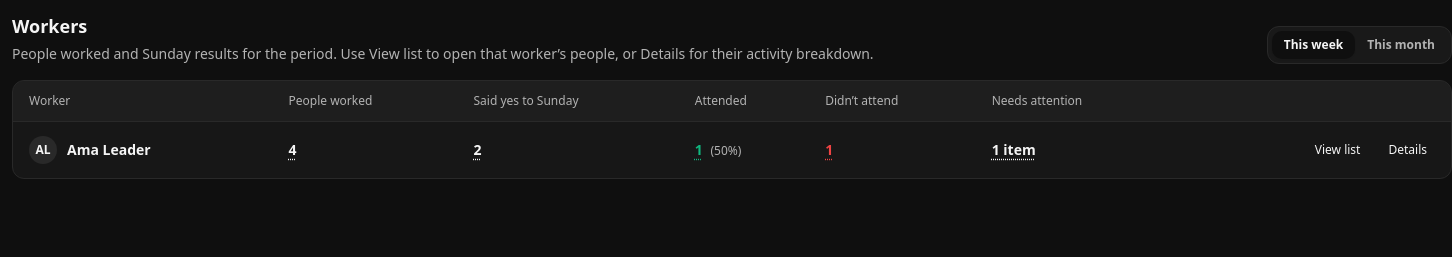
Scenario: WorkerAssessment › leads with people worked and Sunday results, with activity detail behind an expand
This screenshot has width=1452, height=257.
Expected: the text "Ama Leader" is shown, [67,140,151,160]
Expected: the column heading "People worked" is shown, [276,81,462,122]
Click the button "Details" at (1408, 150), box [1376,134,1439,166]
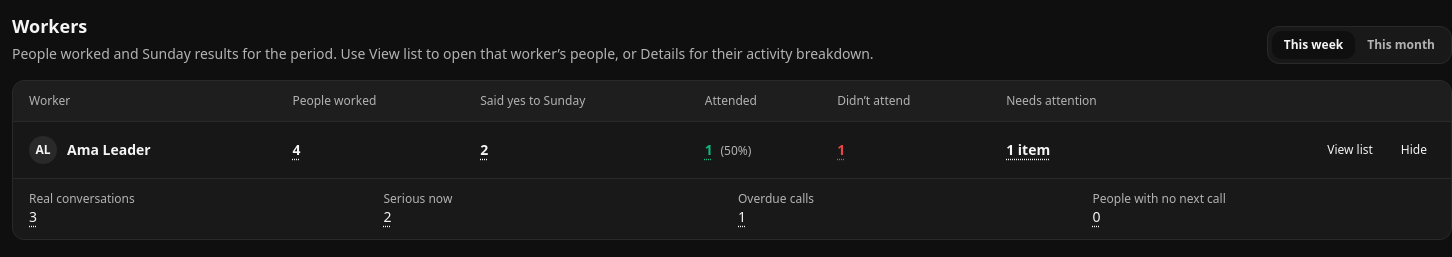
Now the text "Real conversations" is shown, box [29,190,135,207]
